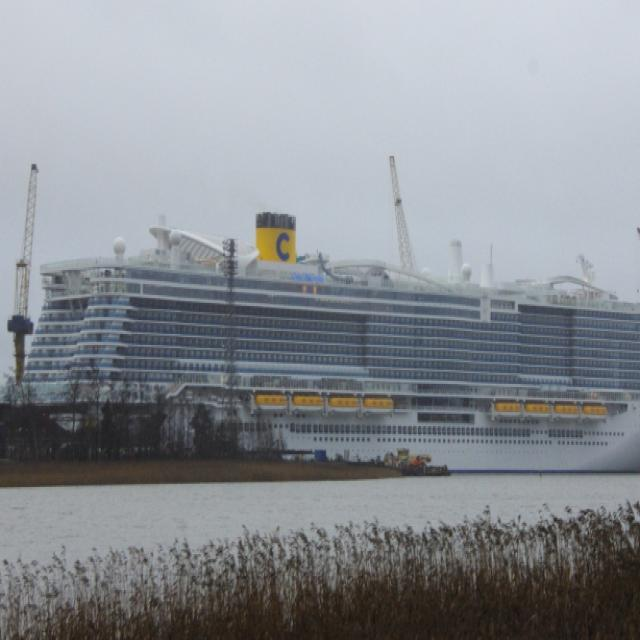cruises: (10, 206, 640, 487)
